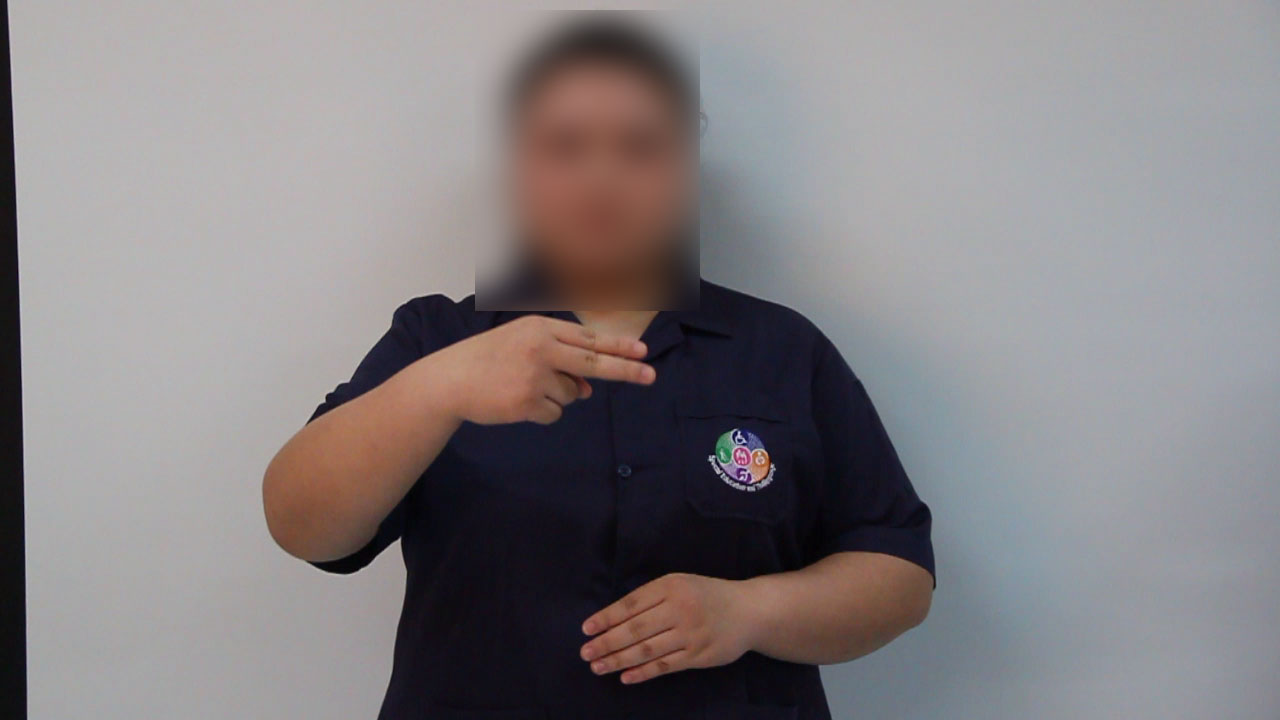hor: (422, 300, 666, 443)
